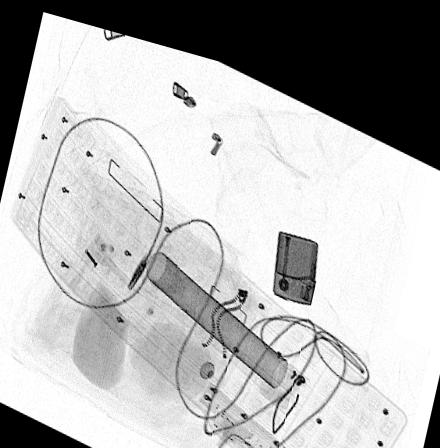Lighter: (272, 213, 318, 288)
